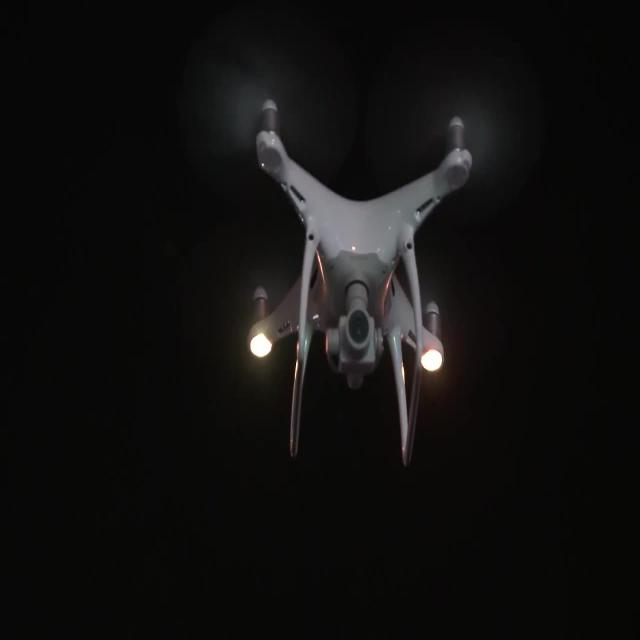drone: (220, 78, 488, 469)
